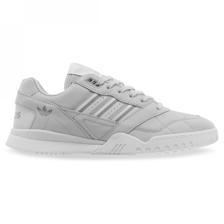Feet: (16, 66, 221, 153)
